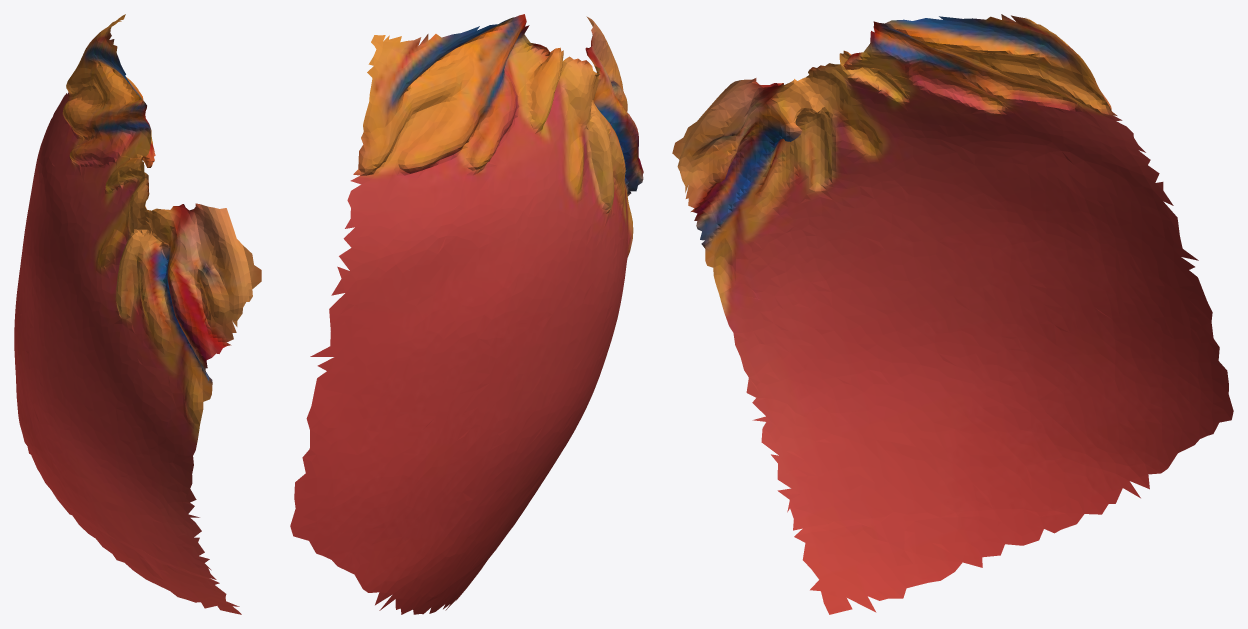
The picture shows the model from 3 angles, left to right: view 1: azimuth 30°, elevation 25°; view 2: azimuth 150°, elevation 25°; view 3: azimuth 270°, elevation 25°; orthographic projection. The views are drawn at different scales.
Visible parts, largest first — view 1: tripo_mesh_045d8eb0-72ec-4624-9759-a425f321d17a; view 2: tripo_mesh_045d8eb0-72ec-4624-9759-a425f321d17a; view 3: tripo_mesh_045d8eb0-72ec-4624-9759-a425f321d17a.
Boxes of the visible parts, x1,y1,x2,y2 form: tripo_mesh_045d8eb0-72ec-4624-9759-a425f321d17a: (14,14,261,614); tripo_mesh_045d8eb0-72ec-4624-9759-a425f321d17a: (290,14,643,614); tripo_mesh_045d8eb0-72ec-4624-9759-a425f321d17a: (672,14,1233,614).
Size of the model in its own units: 0.0879 by 0.3463 by 0.3005.
Materials: 1 (1 with a texture image).
